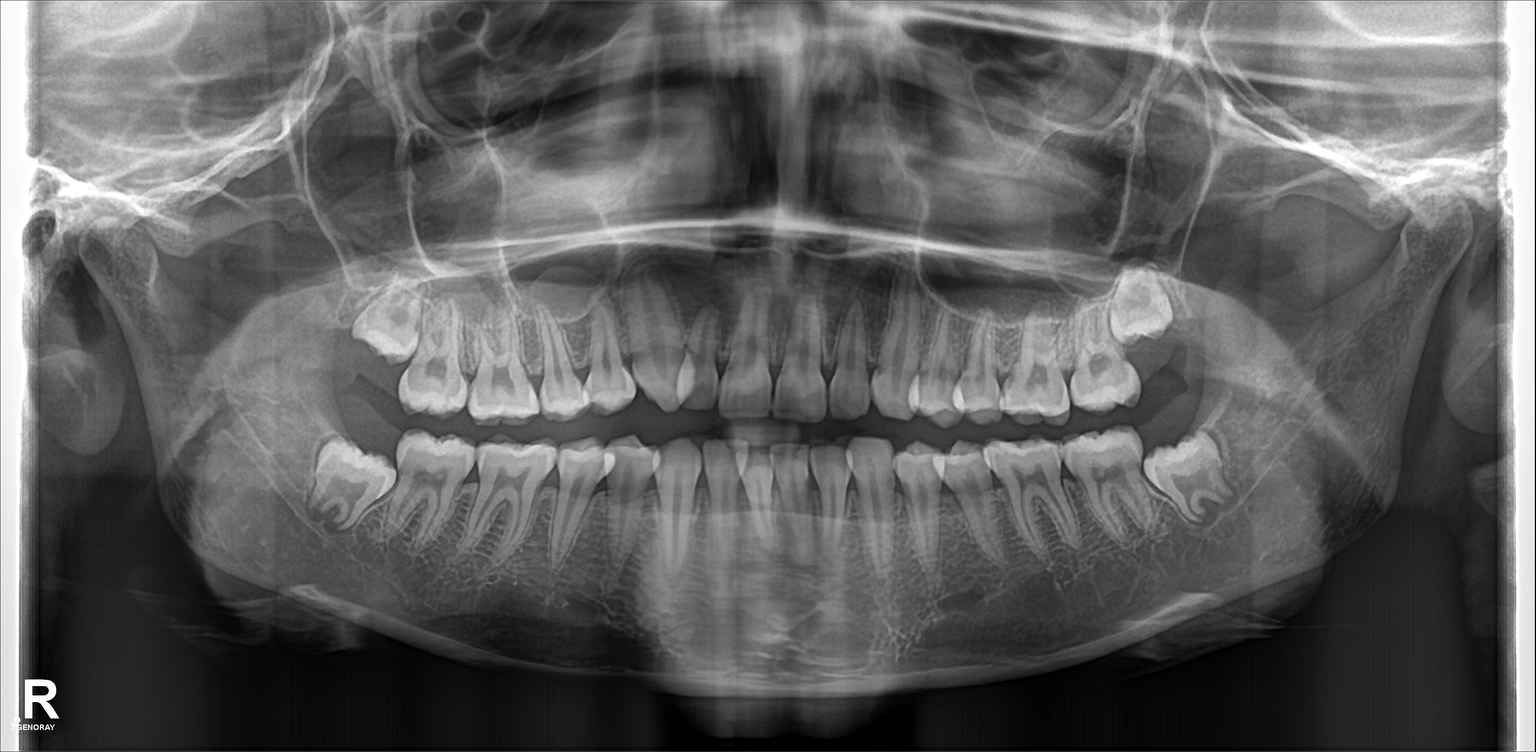Impacted Third Molar: (300, 436, 393, 518), (1147, 443, 1240, 524), (1106, 268, 1183, 346), (350, 281, 422, 358)
